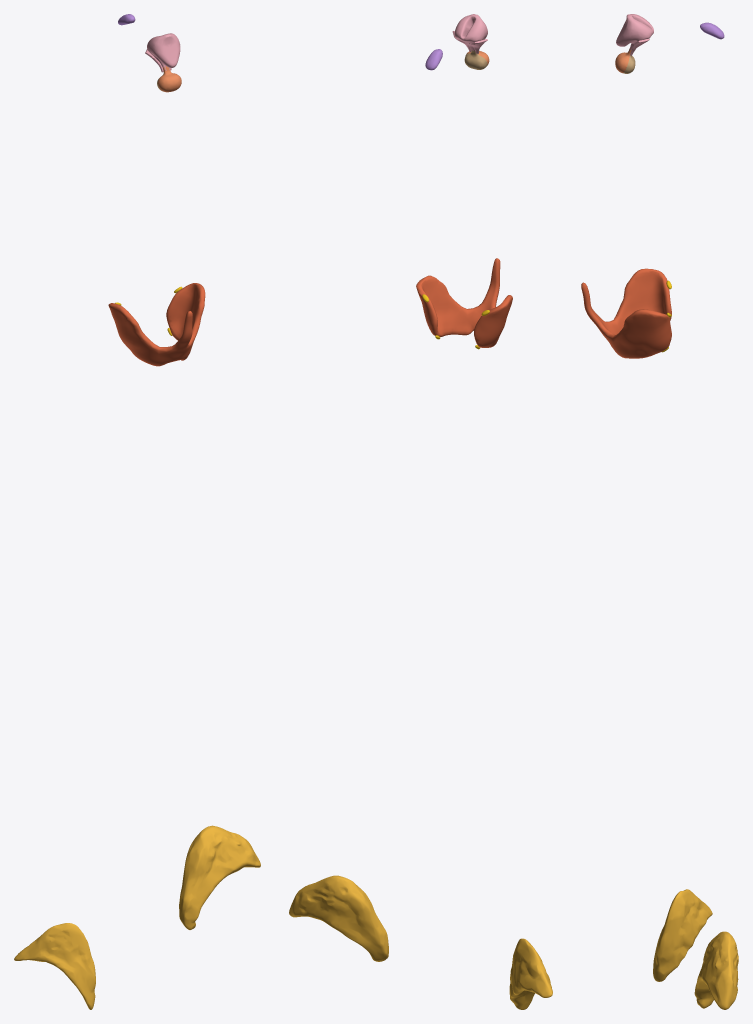
Rendered from endocrine.glb.
3 views of the same model, side by side, from view 1: azimuth 30°, elevation 25°; view 2: azimuth 150°, elevation 25°; view 3: azimuth 270°, elevation 25° (orthographic). The views are drawn at different scales.
Visible parts, largest first — view 1: suprarenal-gland-left, thyroid-gland, suprarenal-gland-right, hypothalamus; view 2: suprarenal-gland-left, thyroid-gland, suprarenal-gland-right, hypothalamus; view 3: thyroid-gland, suprarenal-gland-right, suprarenal-gland-left, hypothalamus.
Boxes of the visible parts, x1,y1,x2,y2 form: suprarenal-gland-left: (179, 825, 260, 929); thyroid-gland: (108, 283, 205, 366); suprarenal-gland-right: (14, 923, 95, 1009); hypothalamus: (145, 33, 180, 72); suprarenal-gland-left: (289, 875, 388, 961); thyroid-gland: (416, 258, 512, 347); suprarenal-gland-right: (509, 938, 552, 1009); hypothalamus: (452, 14, 487, 53); thyroid-gland: (581, 268, 671, 358); suprarenal-gland-right: (653, 889, 712, 981); suprarenal-gland-left: (694, 931, 738, 1009); hypothalamus: (616, 14, 653, 55).
Size of the model in its own units: 0.138 by 0.5035 by 0.072.
